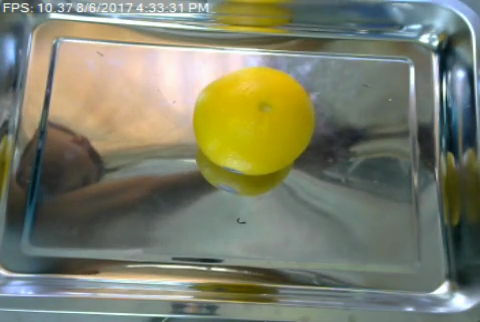Orange: (191, 69, 316, 176)
